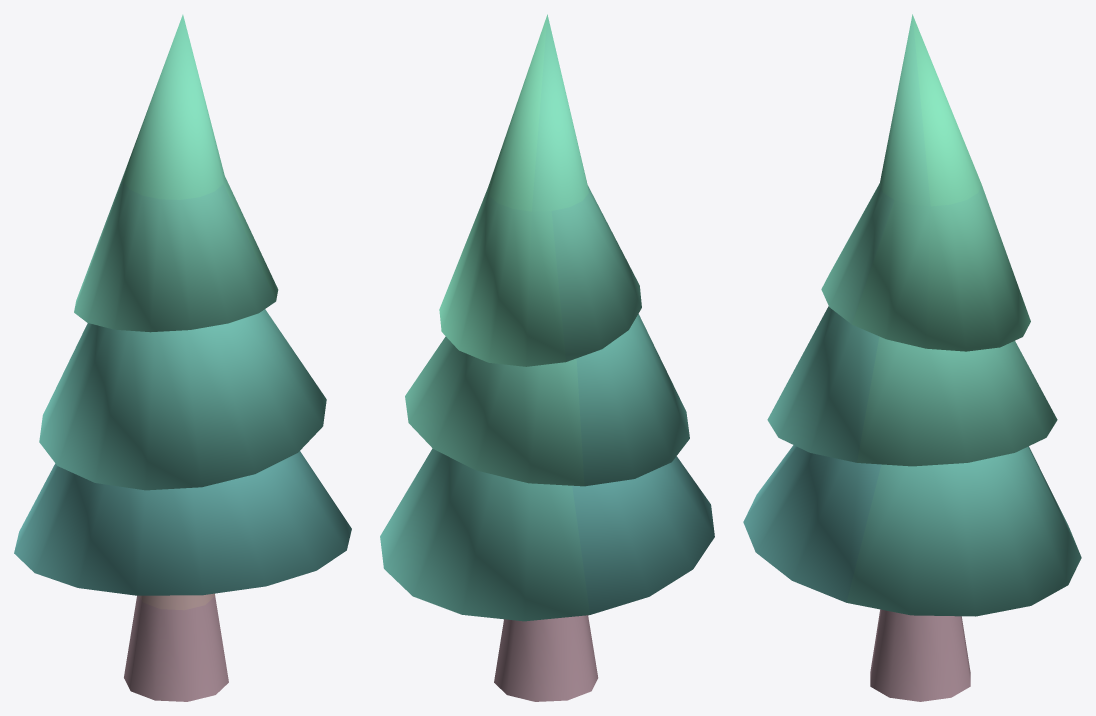
Rendered from pinetree_v3.glb.
3 renders of one model, left to right at view 1: azimuth 30°, elevation 25°; view 2: azimuth 150°, elevation 25°; view 3: azimuth 270°, elevation 25°, orthographic.
Visible parts, largest first — view 1: PineTree_V3.001; view 2: PineTree_V3.001; view 3: PineTree_V3.001.
Boxes of the visible parts, box(x1,y1,x2,y2) form: PineTree_V3.001: box(14, 14, 351, 701); PineTree_V3.001: box(380, 14, 714, 701); PineTree_V3.001: box(743, 14, 1081, 701).
Size of the model in its own units: 1.81 by 3.91 by 1.8.
